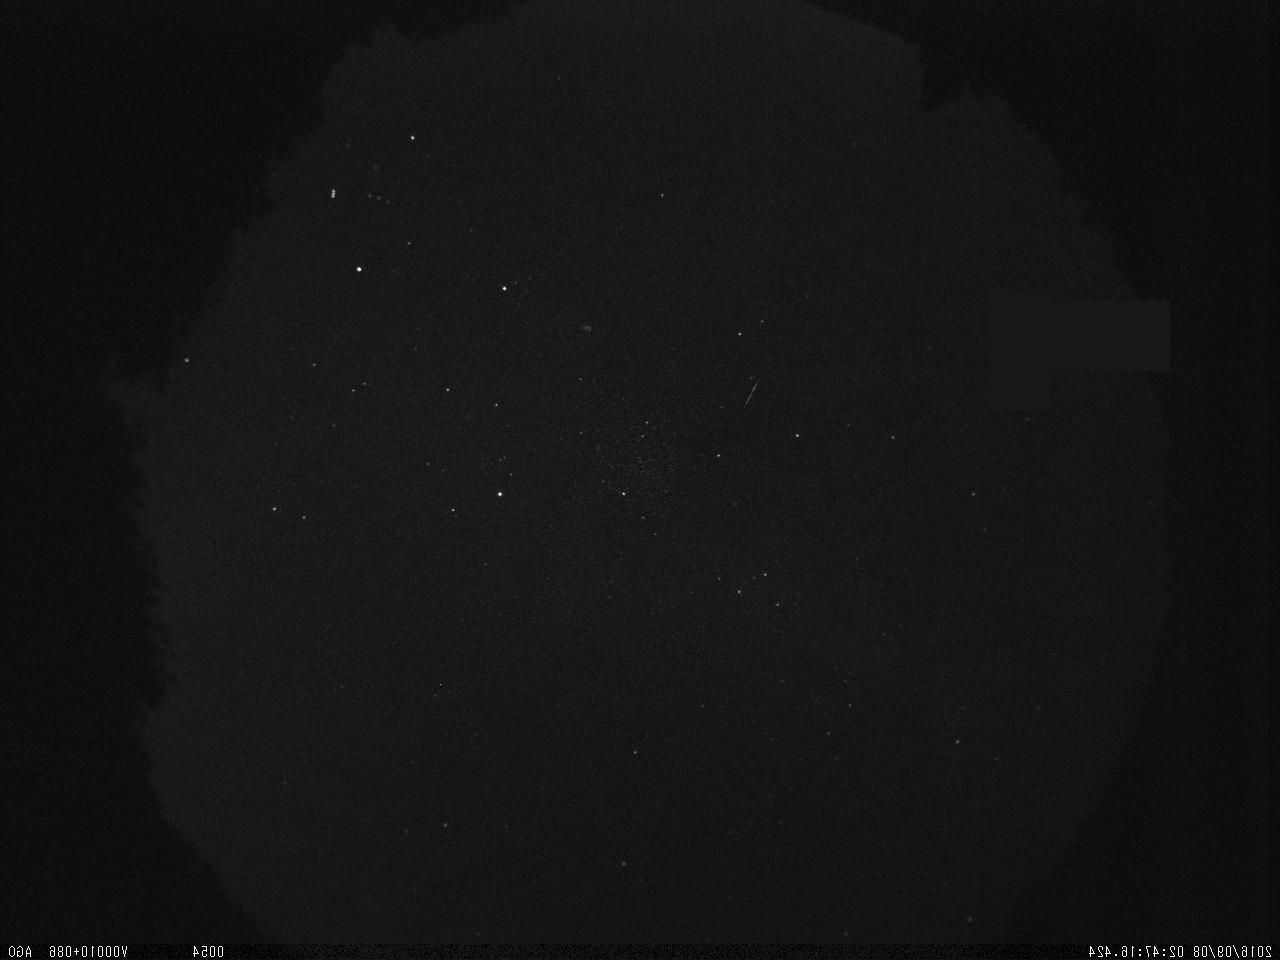meteor: (735, 369, 768, 418)
